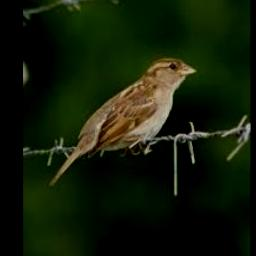Sparrow: (48, 56, 197, 185)
